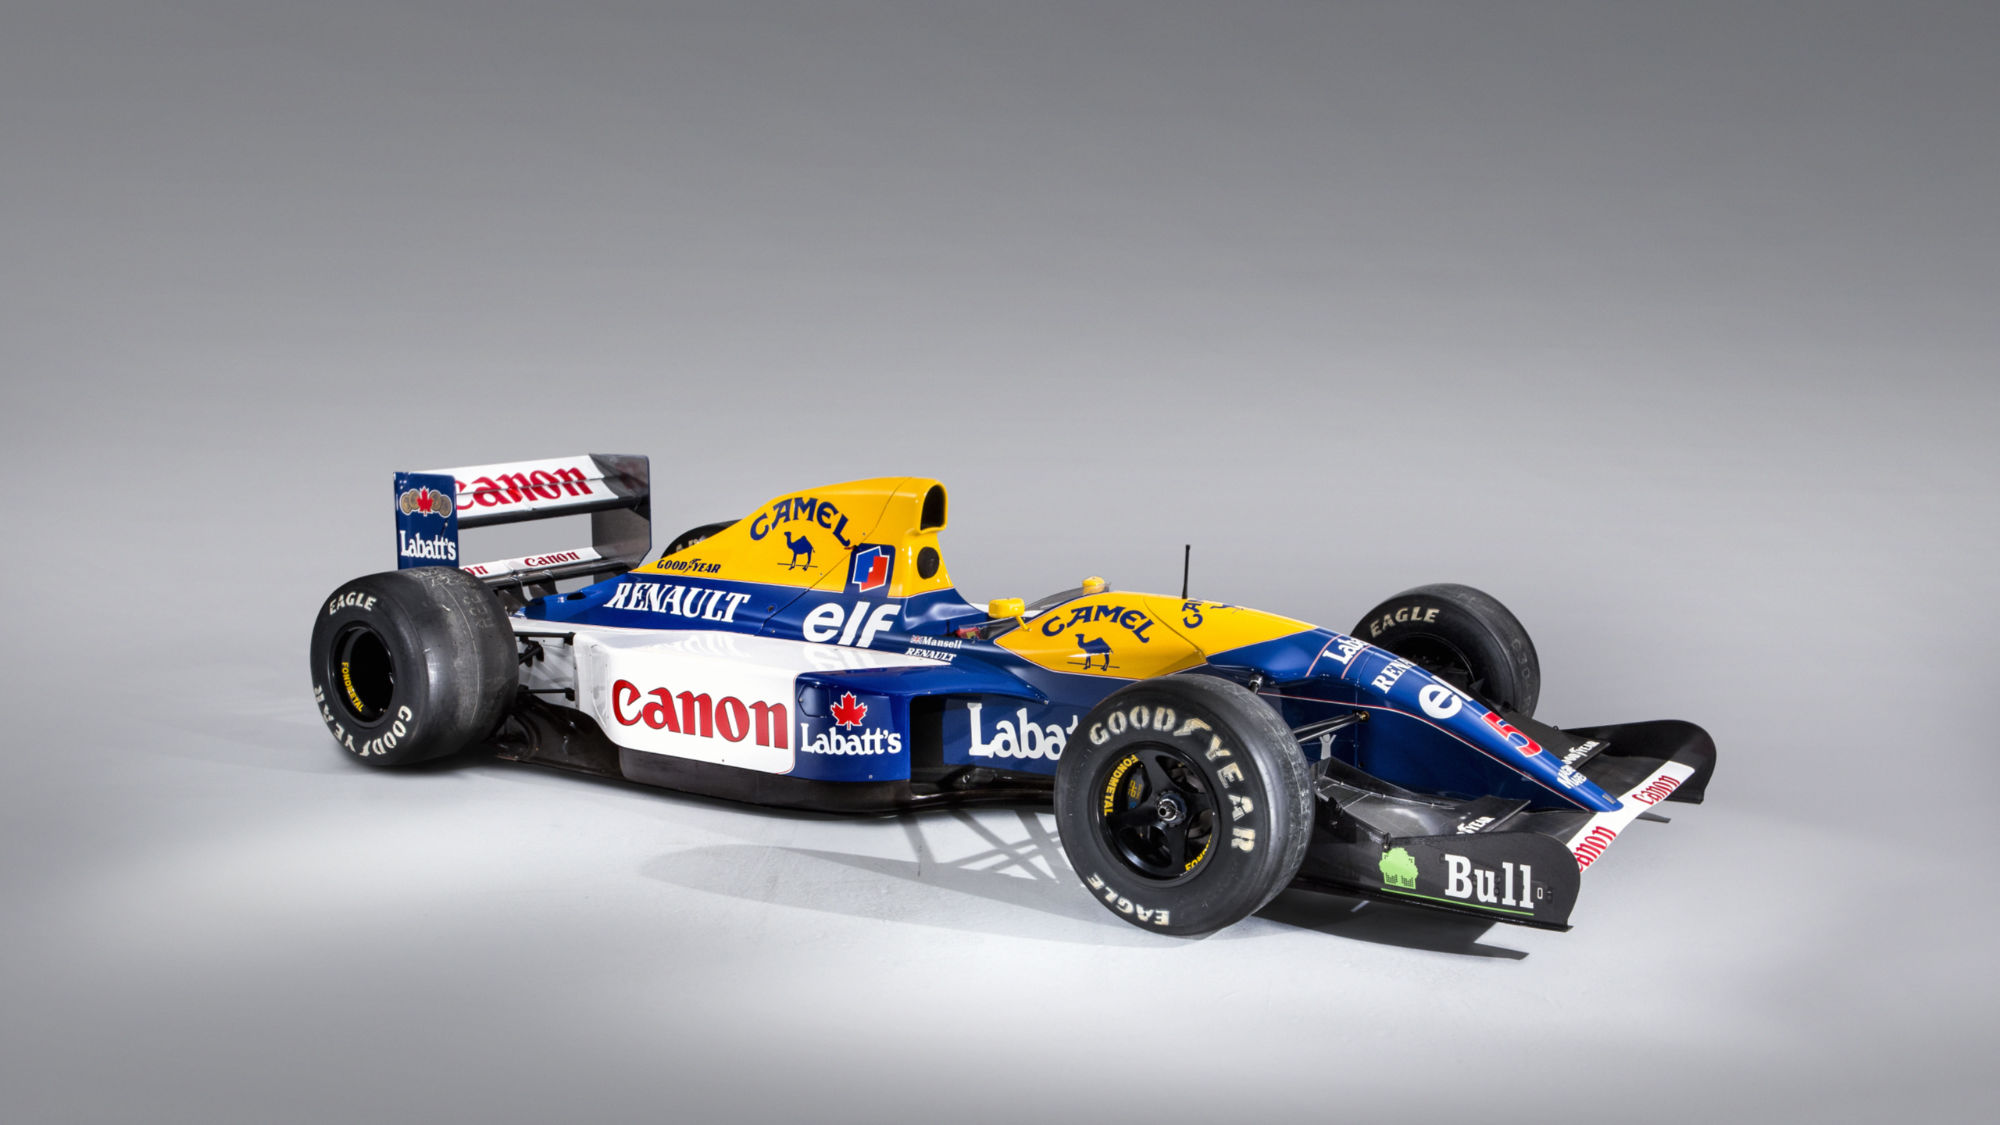f1_car: (265, 415, 1787, 985)
